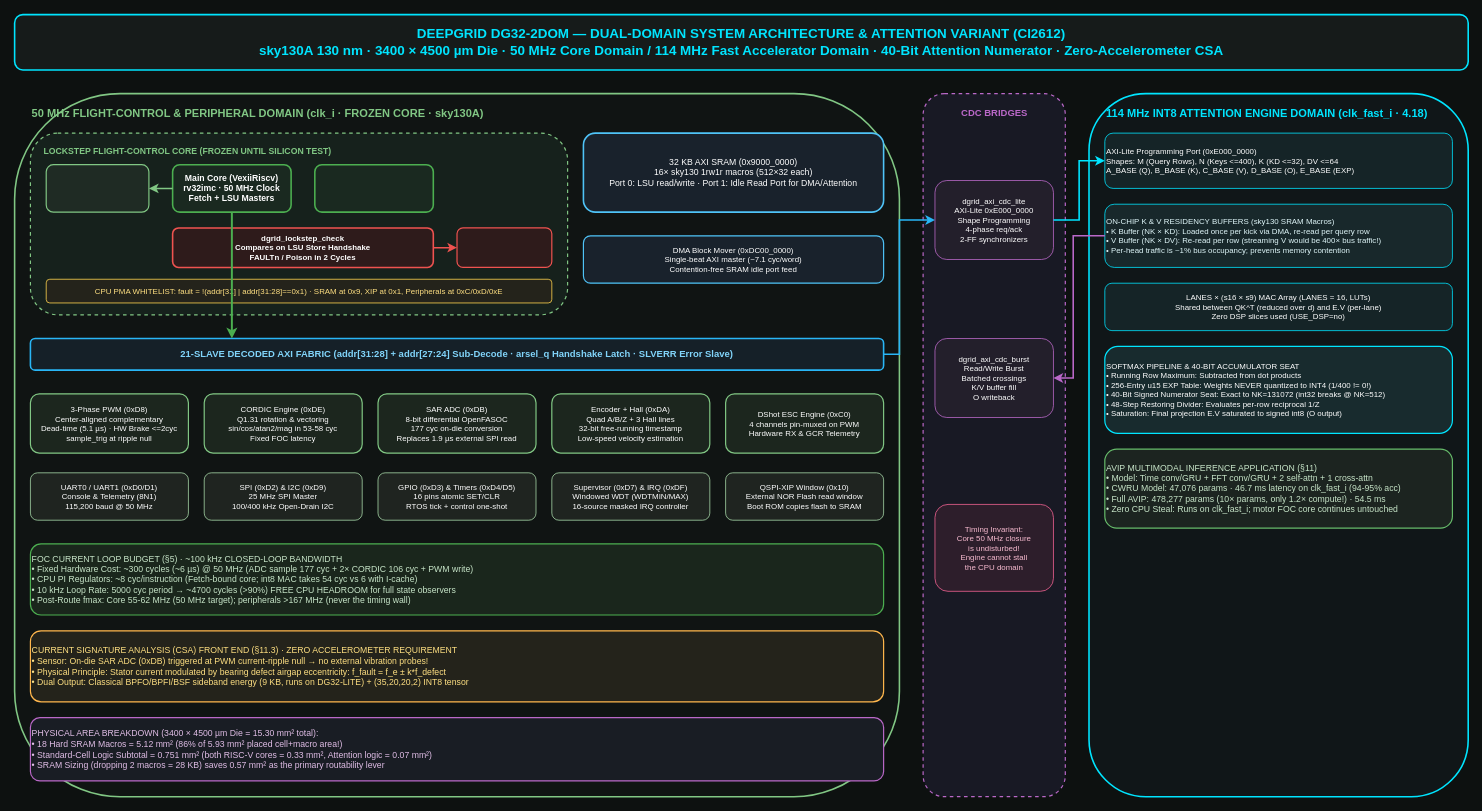
This 1482x811 diagram has some shape labels left out. The shapes that lost their labels are listed below. From the top down, each one's centre as x and y in pixels, then its label:
At point 97,188: "Boot ROM (64 KB) Baked std-cell logic Private Fetch Slave".
At point 374,188: "Checker Core rv32imc · 2-Cycle Skew Private 16 KB DMEM".
At point 504,247: "Fault CSR (0xD6) Sticky-First Latch MAGIC 0xDEAD_5AFE".
